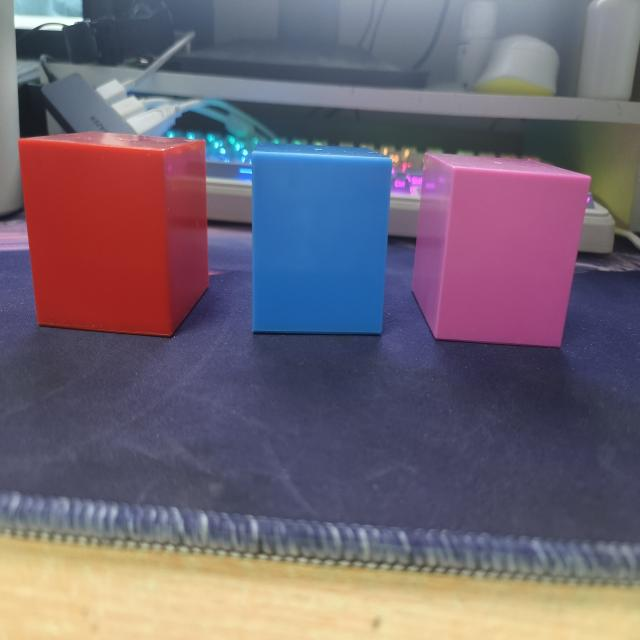blue: (250, 147, 395, 338)
pink: (411, 152, 591, 350)
red: (18, 133, 210, 341)
